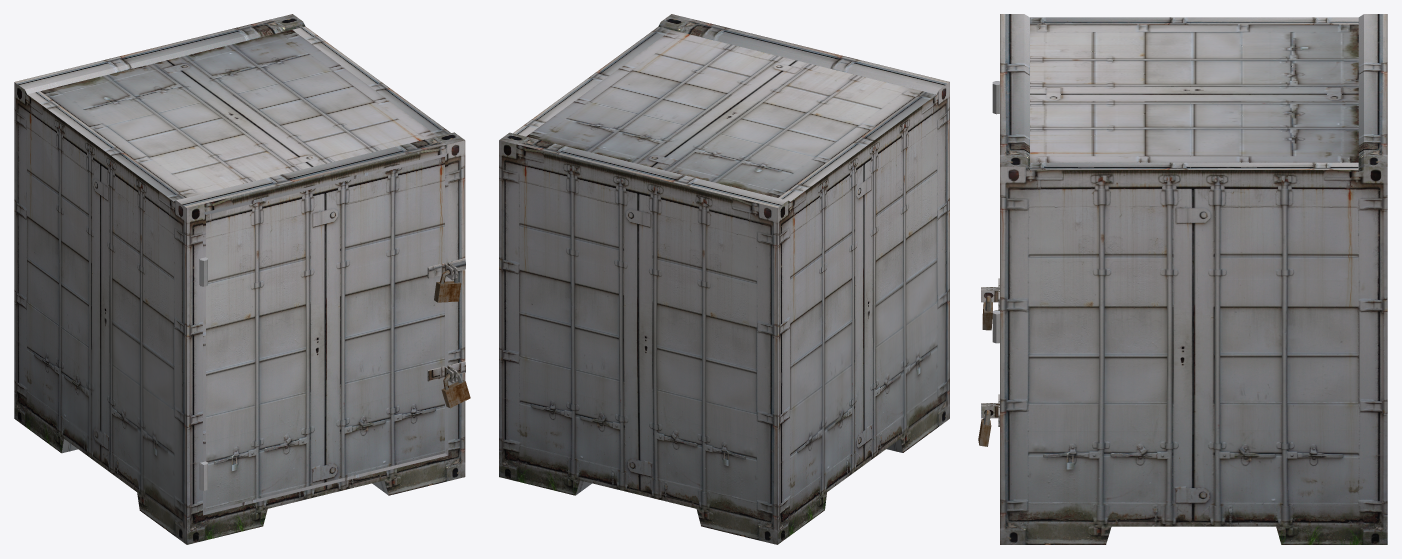
Rendered from Container_Box01.FBX.
3 views of the same model, side by side, from view 1: azimuth 30°, elevation 25°; view 2: azimuth 150°, elevation 25°; view 3: azimuth 270°, elevation 25° (orthographic). The views are drawn at different scales.
Visible parts, largest first — view 1: Container_Box01; view 2: Container_Box01; view 3: Container_Box01.
Boxes of the visible parts, <box> form: Container_Box01: <box>14,14,470,544</box>; Container_Box01: <box>499,14,949,544</box>; Container_Box01: <box>978,14,1387,544</box>.
Size of the model in its own units: 98.81 by 114 by 112.
